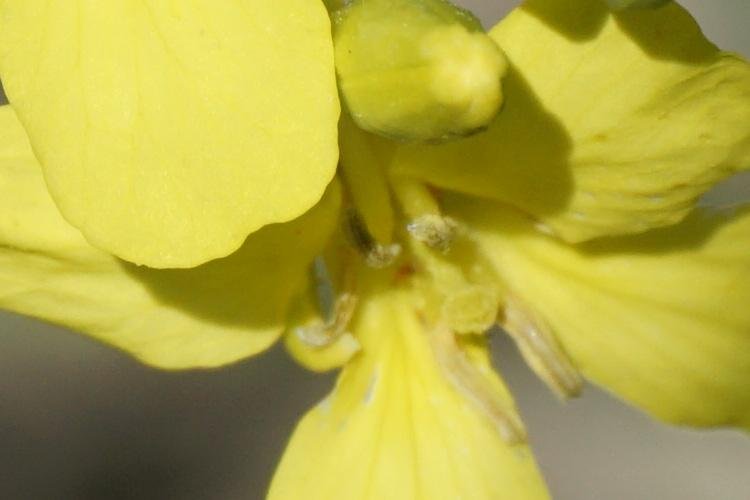bud: (340, 15, 523, 148)
yellow: (63, 93, 741, 476)
